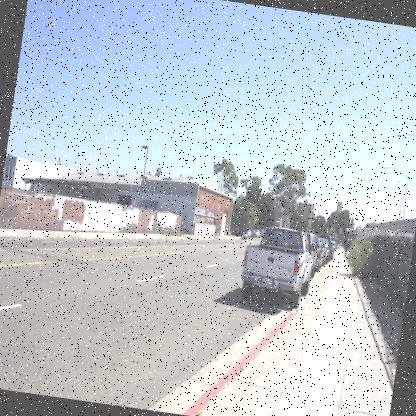Car: (238, 224, 336, 314)
